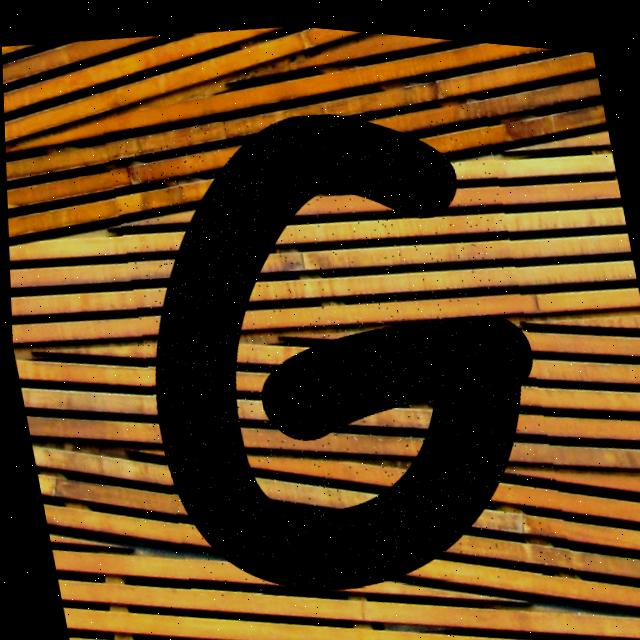G: (154, 109, 530, 584)
